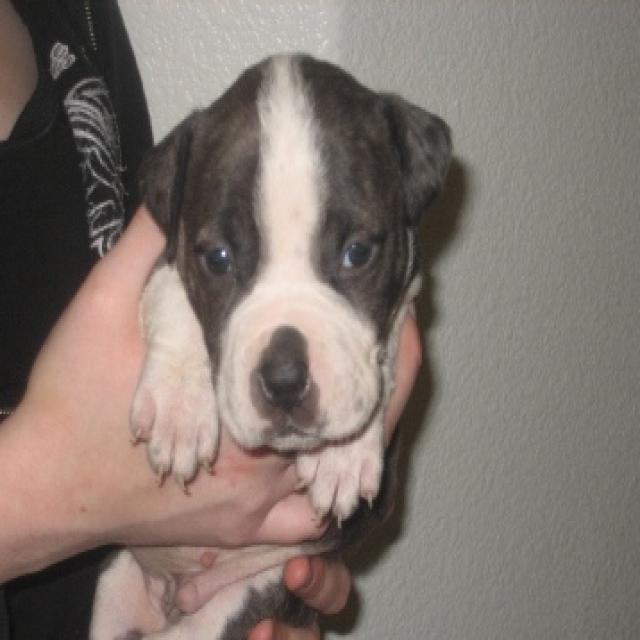Dogs: (86, 48, 452, 638)
